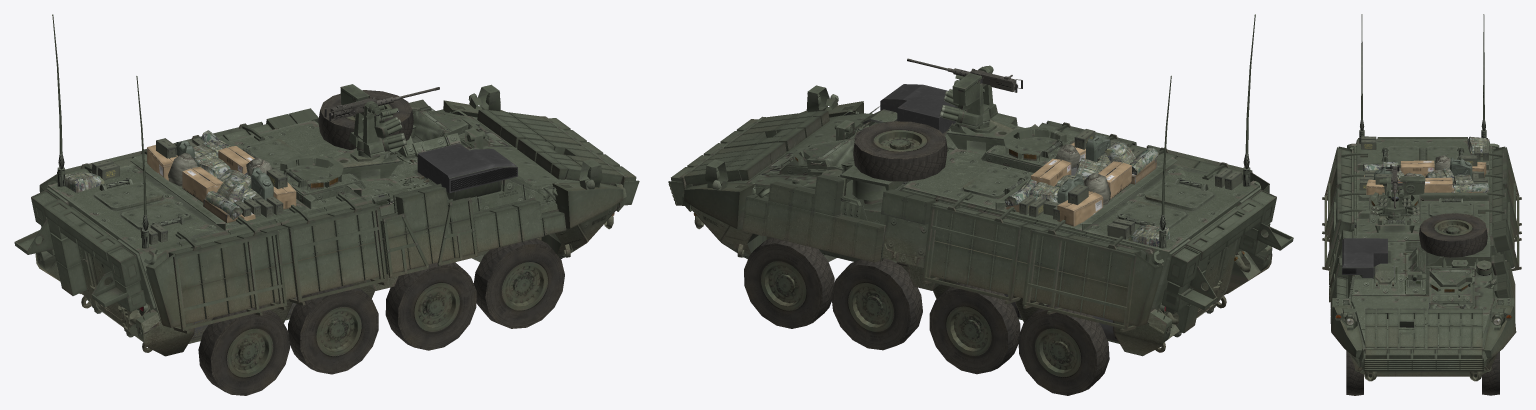
File: m1126_stryker_50_cal.glb
The picture shows the model from 3 angles, left to right: view 1: azimuth 30°, elevation 25°; view 2: azimuth 150°, elevation 25°; view 3: azimuth 270°, elevation 25°; orthographic projection. The views are drawn at different scales.
Visible parts, largest first — view 1: hull, hull2, frame 2, tire, tire02, tire04, tire06, back frames, aircon, era059, tire08, caixa (+57 smaller); view 2: hull, hull2, tire03, tire01, frame, tire05, tire07, back frames, tire08, aircon, era121, hatch (+53 smaller); view 3: hull, hull2, tire08, front frame, frame 2, frame, hatch, aircon, era121, era059, mount, optics (+44 smaller).
Part boxes in pixels (<box>): hull: <box>46,107,626,352</box>; hull2: <box>35,108,559,356</box>; frame 2: <box>173,193,429,333</box>; tire: <box>473,238,564,328</box>; tire02: <box>385,259,476,350</box>; tire04: <box>288,284,378,374</box>; tire06: <box>198,305,289,395</box>; back frames: <box>14,190,146,312</box>; aircon: <box>417,143,517,193</box>; era059: <box>552,182,623,228</box>; tire08: <box>318,90,413,149</box>; caixa: <box>146,222,280,327</box>; hull: <box>682,113,1261,352</box>; hull2: <box>749,106,1272,356</box>; tire03: <box>831,258,922,350</box>; tire01: <box>744,238,834,328</box>; frame: <box>922,192,1136,332</box>; tire05: <box>929,282,1020,374</box>; tire07: <box>1018,304,1109,395</box>; back frames: <box>1161,190,1293,311</box>; tire08: <box>853,121,947,181</box>; aircon: <box>880,84,957,133</box>; era121: <box>684,183,754,229</box>; hatch: <box>777,139,854,176</box>; hull: <box>1347,130,1506,377</box>; hull2: <box>1332,143,1514,313</box>; tire08: <box>1419,213,1487,257</box>; front frame: <box>1363,347,1483,371</box>; frame 2: <box>1322,147,1367,284</box>; frame: <box>1478,147,1521,271</box>; hatch: <box>1429,268,1475,303</box>; aircon: <box>1342,238,1387,274</box>; era121: <box>1484,304,1516,357</box>; era059: <box>1331,304,1363,357</box>; mount: <box>1372,177,1417,219</box>; optics: <box>1387,176,1425,201</box>.
Bounding box in the file's own units: 7.6 × 4.55 × 3.36.
Materials: 10 (10 with a texture image).
